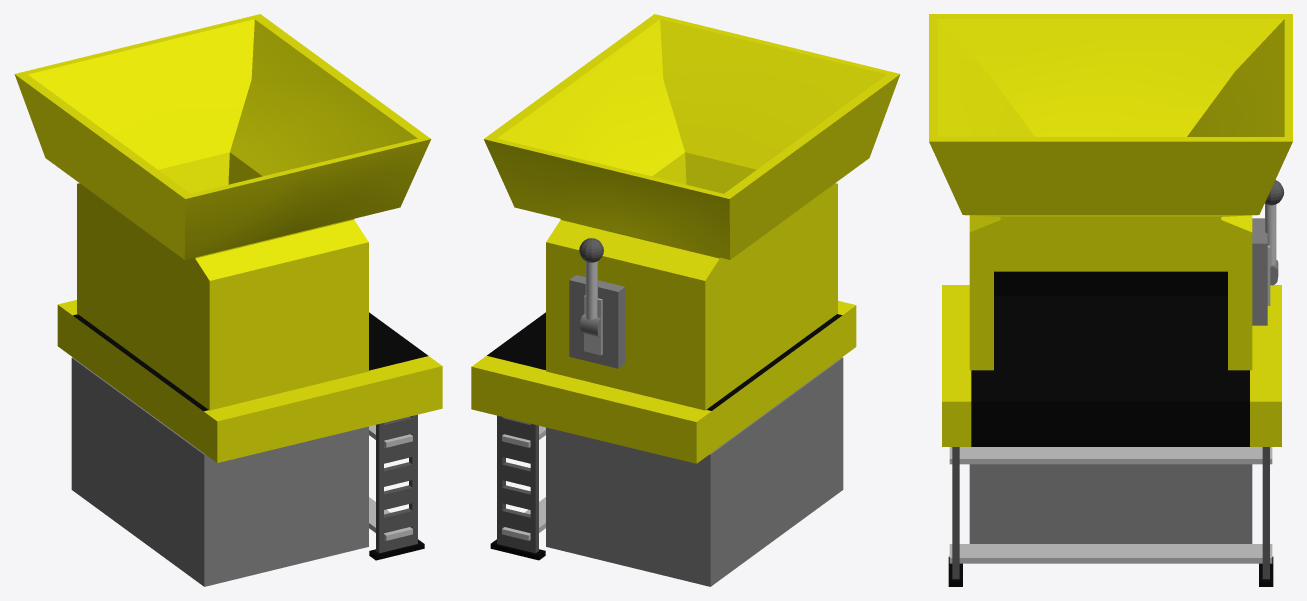
Rendered from ConveyorBeltScrapMachine2.fbx.
3 views of the same model, side by side, from view 1: azimuth 30°, elevation 25°; view 2: azimuth 150°, elevation 25°; view 3: azimuth 270°, elevation 25° (orthographic). The views are drawn at different scales.
Visible parts, largest first — view 1: polySurface37; view 2: polySurface37, polySurface5, polySurface1; view 3: polySurface37, polySurface5, polySurface1.
Part boxes in pixels (box(x1,y1,x2,y2)): polySurface37: box(14, 14, 442, 586); polySurface37: box(471, 14, 900, 586); polySurface5: box(569, 275, 625, 368); polySurface1: box(579, 238, 603, 320); polySurface37: box(929, 14, 1292, 586); polySurface5: box(1252, 218, 1278, 325); polySurface1: box(1265, 180, 1284, 265).
Bounding box in the file's own units: 2.09 × 3.16 × 2.35.
